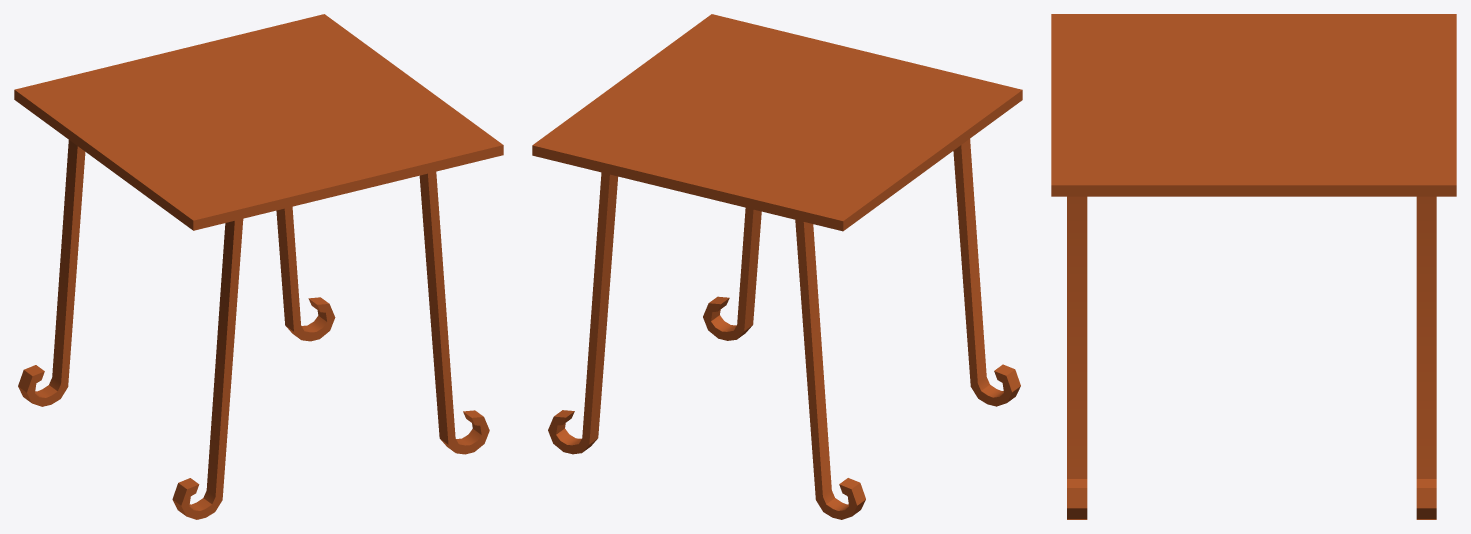
File: alexc_table_square.fbx
3 renders of one model, left to right at view 1: azimuth 30°, elevation 25°; view 2: azimuth 150°, elevation 25°; view 3: azimuth 270°, elevation 25°, orthographic. The views are drawn at different scales.
Visible parts, largest first — view 1: tablesquare; view 2: tablesquare; view 3: tablesquare.
Boxes of the visible parts, box(x1,y1,x2,y2) form: tablesquare: box(14, 14, 503, 519); tablesquare: box(532, 14, 1022, 519); tablesquare: box(1051, 14, 1456, 519).
Bounding box in the file's own units: 374 × 368 × 348.
